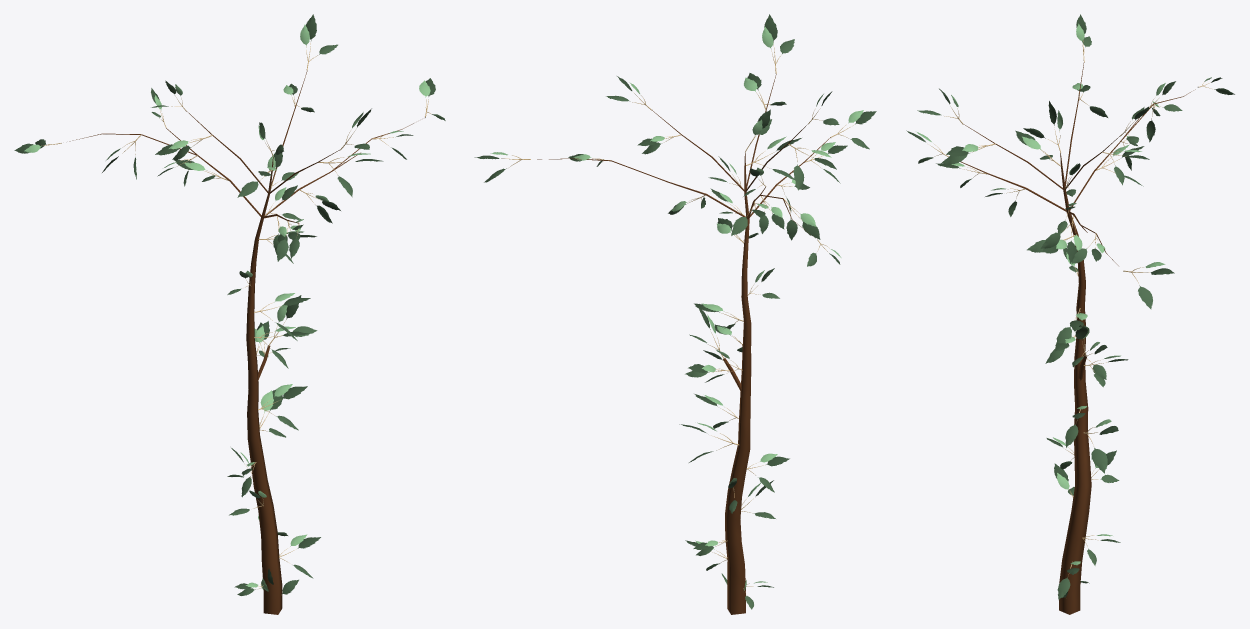
The model's file is Tree24.fbx.
3 renders of one model, left to right at view 1: azimuth 30°, elevation 25°; view 2: azimuth 150°, elevation 25°; view 3: azimuth 270°, elevation 25°, orthographic.
Visible parts, largest first — view 1: Árbol.002; view 2: Árbol.002, Hojas|tree|Dupli|25; view 3: Árbol.002, Hojas|tree|Dupli|35, Hojas|tree|Dupli|17, Hojas|tree|Dupli|5, Hojas|tree|Dupli|2.
Part boxes in pixels (x1,y1,x2,y2): Árbol.002: (69,71,413,614); Árbol.002: (537,74,830,614); Hojas|tree|Dupli|25: (762,14,794,73); Árbol.002: (960,62,1195,614); Hojas|tree|Dupli|35: (1040,215,1082,263); Hojas|tree|Dupli|17: (1083,419,1118,473); Hojas|tree|Dupli|5: (1123,262,1174,309); Hojas|tree|Dupli|2: (941,143,995,164).
Size of the model in its own units: 551 by 735 by 402.
